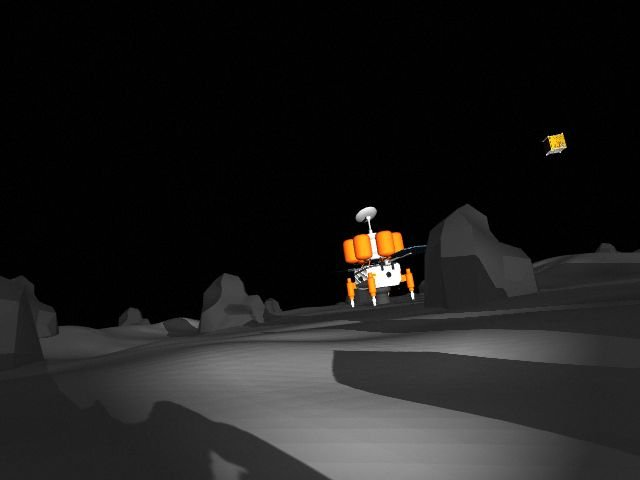homebase: (323, 204, 435, 310)
